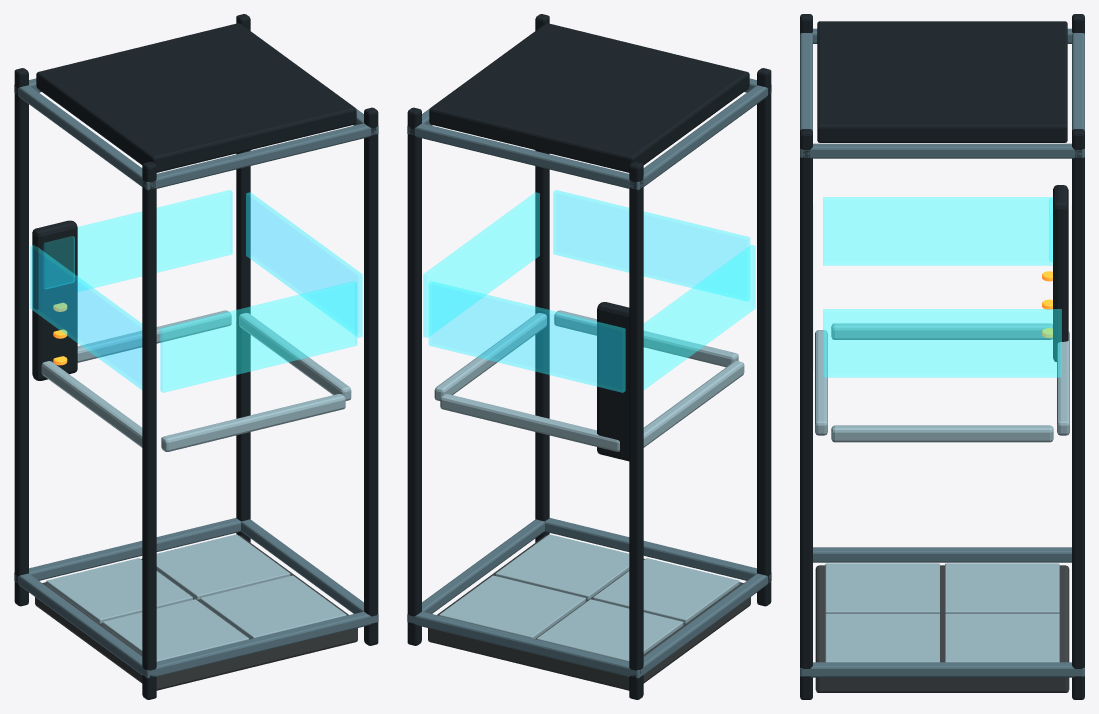
Rendered from 05_glass_1x1.glb.
The picture shows the model from 3 angles, left to right: view 1: azimuth 30°, elevation 25°; view 2: azimuth 150°, elevation 25°; view 3: azimuth 270°, elevation 25°; orthographic projection. The views are drawn at different scales.
Parts seen in each view (by area): view 1: Ceiling_Frame, Glass_Band_North, Glass_Band_South, Corner_Post_-1_-1, Glass_Band_East, Corner_Post_1_-1, Corner_Post_-1_1, Glass_Band_West, Cabin_Control_Housing, Floor_Plate_1_1.004, Floor_Plate_1_0.004, Corner_Post_1_1 (+14 smaller); view 2: Ceiling_Frame, Glass_Band_South, Glass_Band_North, Corner_Post_-1_1, Glass_Band_East, Corner_Post_1_1, Corner_Post_-1_-1, Glass_Band_West, Floor_Plate_1_0.004, Floor_Plate_1_1.004, Corner_Post_1_-1, Floor_Plate_0_0.004 (+13 smaller); view 3: Ceiling_Frame, Glass_Band_East, Glass_Band_West, Corner_Post_1_1, Corner_Post_1_-1, Floor_Base.004, Floor_Plate_0_0.004, Floor_Plate_0_1.004, Floor_Plate_1_0.004, Floor_Plate_1_1.004, Upper_Rail_East.004, Lower_Rail_East.004 (+8 smaller).
Boxes of the visible parts, left/top/right/bottom form: Ceiling_Frame: left=36, top=23, right=356, bottom=172; Glass_Band_North: left=160, top=281, right=356, bottom=392; Glass_Band_South: left=78, top=190, right=232, bottom=291; Corner_Post_-1_-1: left=142, top=161, right=156, bottom=699; Glass_Band_East: left=246, top=192, right=362, bottom=337; Corner_Post_1_-1: left=364, top=107, right=378, bottom=645; Corner_Post_-1_1: left=14, top=68, right=28, bottom=606; Glass_Band_West: left=30, top=245, right=141, bottom=389; Cabin_Control_Housing: left=32, top=220, right=77, bottom=380; Floor_Plate_1_1.004: left=156, top=534, right=290, bottom=599; Floor_Plate_1_0.004: left=200, top=575, right=346, bottom=638; Corner_Post_1_1: left=236, top=14, right=250, bottom=542; Ceiling_Frame: left=429, top=23, right=749, bottom=172; Glass_Band_South: left=429, top=281, right=625, bottom=392; Glass_Band_North: left=553, top=190, right=749, bottom=301; Corner_Post_-1_1: left=629, top=161, right=643, bottom=699; Glass_Band_East: left=423, top=192, right=539, bottom=337; Corner_Post_1_1: left=407, top=107, right=421, bottom=645; Corner_Post_-1_-1: left=757, top=68, right=771, bottom=606; Glass_Band_West: left=644, top=245, right=755, bottom=389; Floor_Plate_1_0.004: left=495, top=534, right=629, bottom=599; Floor_Plate_1_1.004: left=439, top=575, right=585, bottom=638; Corner_Post_1_-1: left=535, top=14, right=549, bottom=542; Floor_Plate_0_0.004: left=593, top=558, right=739, bottom=623; Ceiling_Frame: left=817, top=21, right=1067, bottom=142; Glass_Band_East: left=823, top=309, right=1061, bottom=377; Glass_Band_West: left=823, top=197, right=1052, bottom=265; Corner_Post_1_1: left=1072, top=129, right=1084, bottom=699; Corner_Post_1_-1: left=800, top=129, right=812, bottom=699; Floor_Base.004: left=815, top=565, right=1069, bottom=692; Floor_Plate_0_0.004: left=825, top=563, right=939, bottom=614; Floor_Plate_0_1.004: left=945, top=563, right=1059, bottom=614; Floor_Plate_1_0.004: left=825, top=614, right=939, bottom=662; Floor_Plate_1_1.004: left=945, top=614, right=1059, bottom=662; Upper_Rail_East.004: left=800, top=143, right=1084, bottom=158; Lower_Rail_East.004: left=800, top=662, right=1084, bottom=677.
Size of the model in its own units: 1 by 2.2 by 1.
